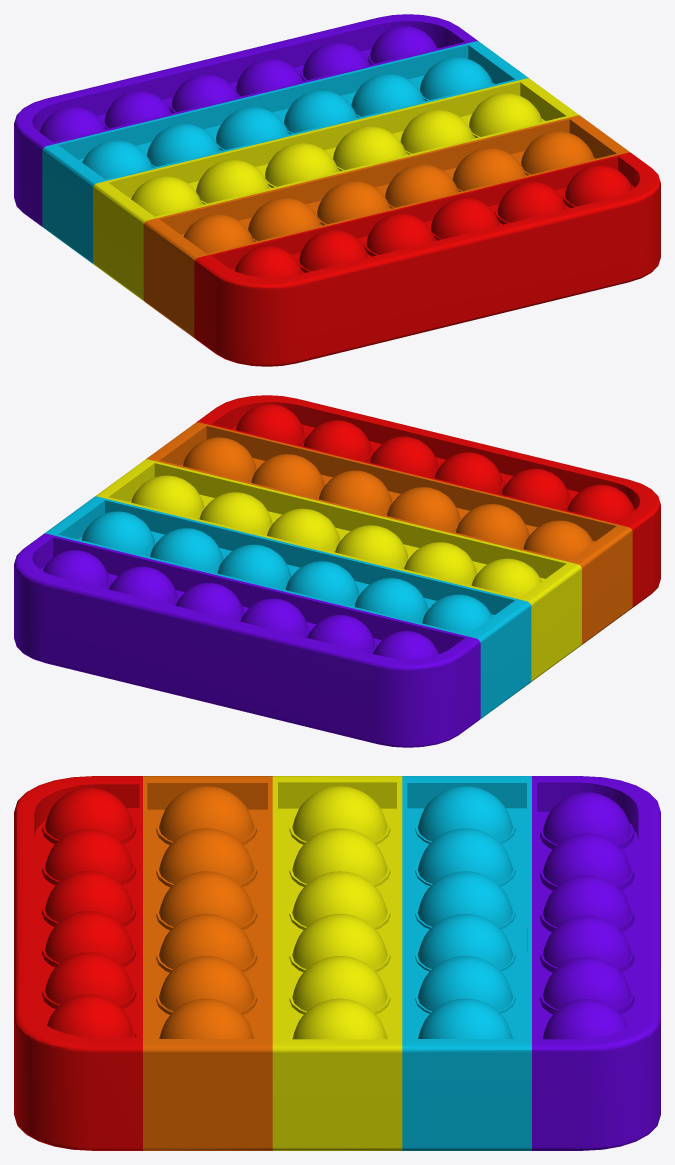
Rendered from Popit.fbx.
The picture shows the model from 3 angles, top to bottom: view 1: azimuth 30°, elevation 25°; view 2: azimuth 150°, elevation 25°; view 3: azimuth 270°, elevation 25°; orthographic projection. The views are drawn at different scales.
Parts seen in each view (by area): view 1: pCube2; view 2: pCube2; view 3: pCube2.
Part boxes in pixels (<box>): pCube2: <box>14,14,660,366</box>; pCube2: <box>14,395,660,747</box>; pCube2: <box>14,776,660,1150</box>.
Size of the model in its own units: 13.6 by 2.79 by 13.6.
